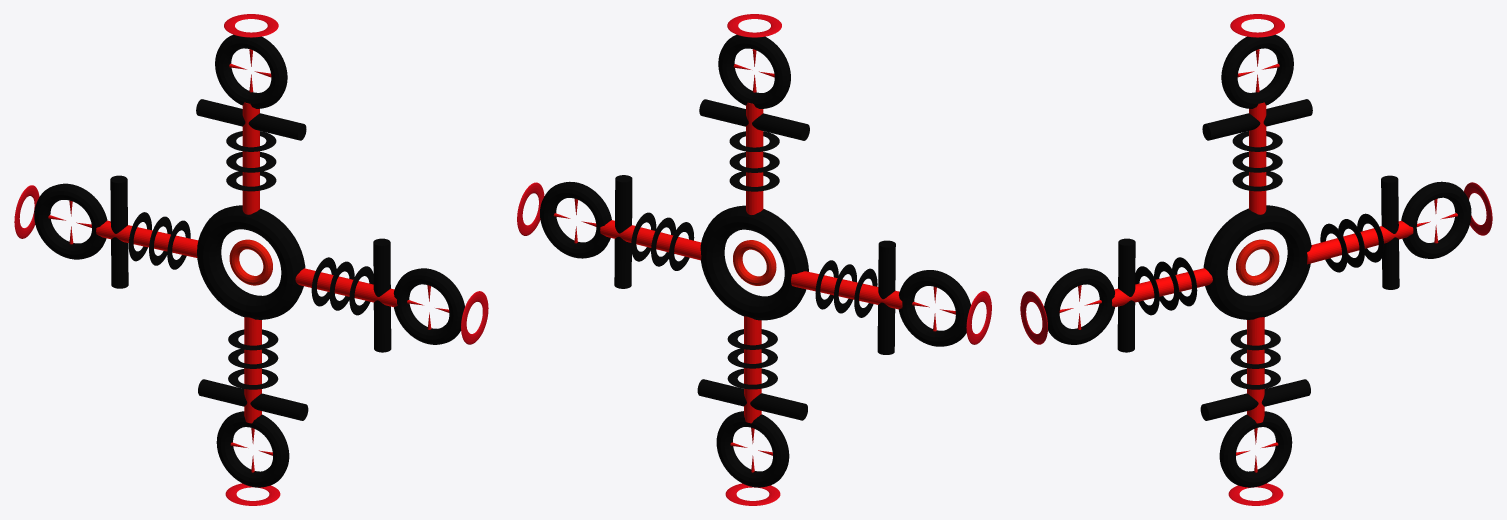
Rendered from Enemy__SpreadBullet.fbx.
3 views of the same model, side by side, from view 1: azimuth 30°, elevation 25°; view 2: azimuth 210°, elevation 25°; view 3: azimuth 270°, elevation 25° (orthographic).
Parts seen in each view (by area): view 1: トーラス.005; view 2: トーラス.005; view 3: トーラス.005.
Boxes of the visible parts, box(x1,y1,x2,y2) form: トーラス.005: box(14, 14, 488, 505); トーラス.005: box(517, 14, 991, 505); トーラス.005: box(1020, 14, 1492, 505).
Size of the model in its own units: 2148 by 3622 by 3298.
